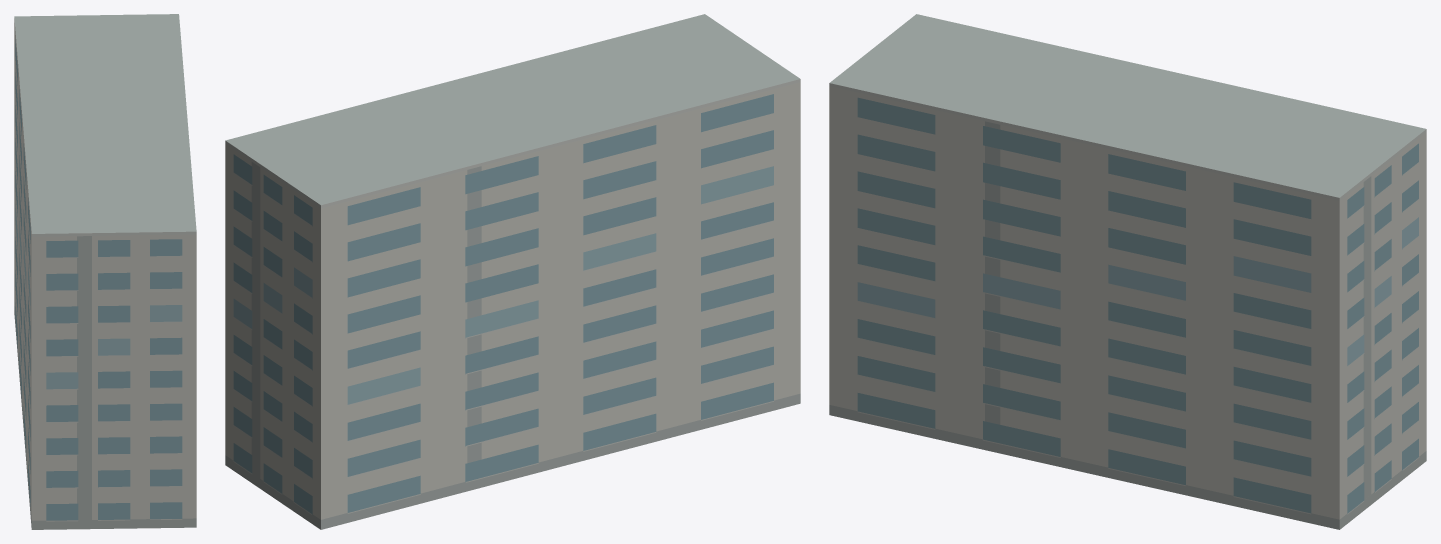
The model's file is residential-888630ad-0748-41f4-8467-5c1617fb57e2.glb.
3 renders of one model, left to right at view 1: azimuth 30°, elevation 25°; view 2: azimuth 150°, elevation 25°; view 3: azimuth 270°, elevation 25°, orthographic. The views are drawn at different scales.
Visible parts, largest first — view 1: residential-888630ad-0748-41f4-8467-5c1617fb57e2.tmp; view 2: residential-888630ad-0748-41f4-8467-5c1617fb57e2.tmp; view 3: residential-888630ad-0748-41f4-8467-5c1617fb57e2.tmp.
Boxes of the visible parts, x1,y1,x2,y2 form: residential-888630ad-0748-41f4-8467-5c1617fb57e2.tmp: [14, 14, 196, 529]; residential-888630ad-0748-41f4-8467-5c1617fb57e2.tmp: [225, 14, 800, 529]; residential-888630ad-0748-41f4-8467-5c1617fb57e2.tmp: [829, 14, 1426, 529].
Bounding box in the file's own units: 29.7 × 25 × 40.76.
